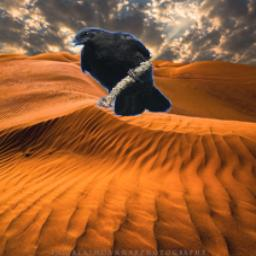Crow: (68, 28, 171, 117)
